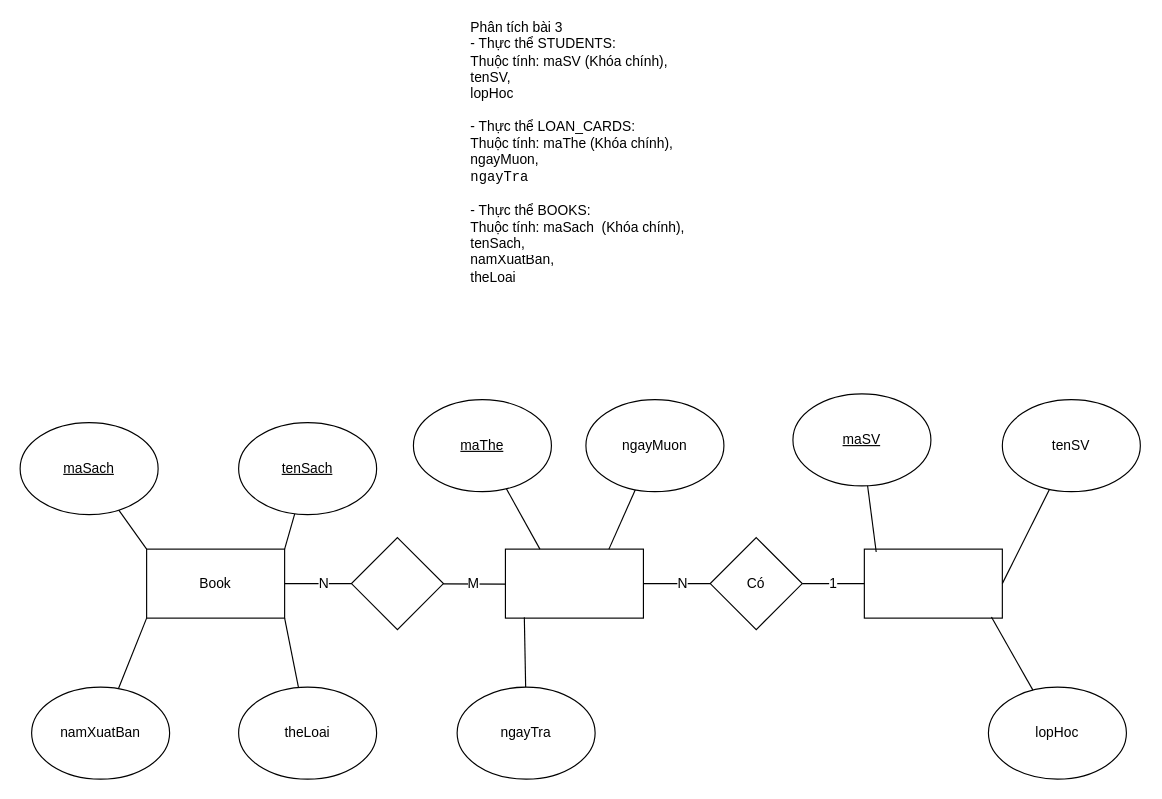
Some shapes in this 1162 by 799 pixel diagram are drawn without their labels. The centre of each missing label's shape, as x and y in pixels:
Loan_Cards: (x=573, y=583)
Student: (x=932, y=583)
Viết: (x=396, y=583)
